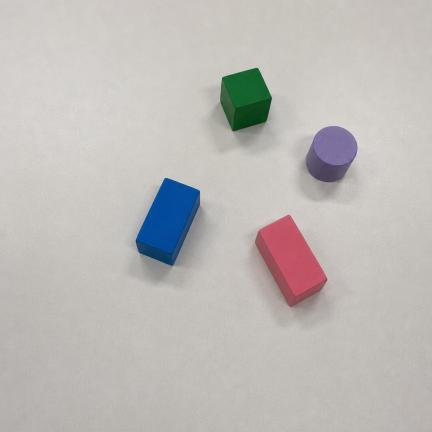BuildingBlocks: (256, 216, 327, 306), (136, 179, 199, 265), (221, 68, 271, 130), (306, 127, 357, 181)
